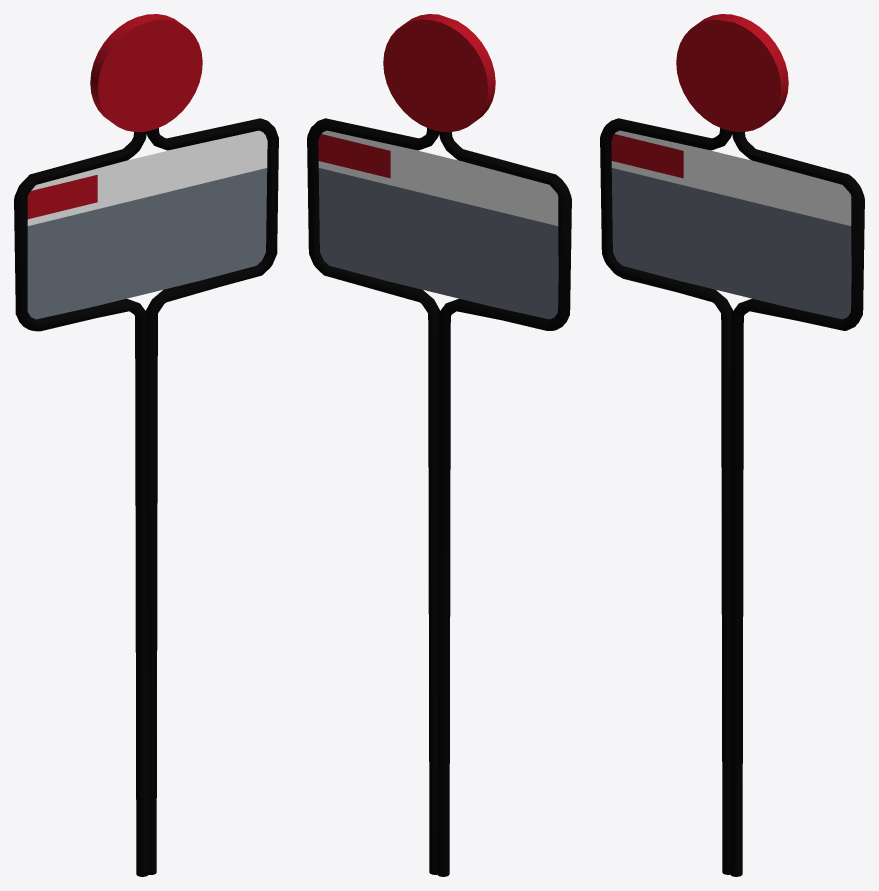
File: beijing_zhanpai_a.obj
3 renders of one model, left to right at view 1: azimuth 30°, elevation 25°; view 2: azimuth 150°, elevation 25°; view 3: azimuth 330°, elevation 25°, orthographic.
Visible parts, largest first — view 1: Cube.003, short, 柱体; view 2: Cube.003, short, 柱体; view 3: Cube.003, short, 柱体.
Boxes of the visible parts, box(x1,y1,x2,y2) form: Cube.003: box(27, 130, 267, 319); short: box(14, 118, 278, 876); 柱体: box(90, 14, 202, 131); Cube.003: box(318, 130, 558, 319); short: box(307, 118, 571, 876); 柱体: box(383, 14, 495, 132); Cube.003: box(611, 130, 851, 319); short: box(600, 118, 864, 876); 柱体: box(676, 14, 788, 131).
Bounding box in the file's own units: 0.9983 × 3.1 × 0.05.
Materials: 4 (4 with a texture image).
